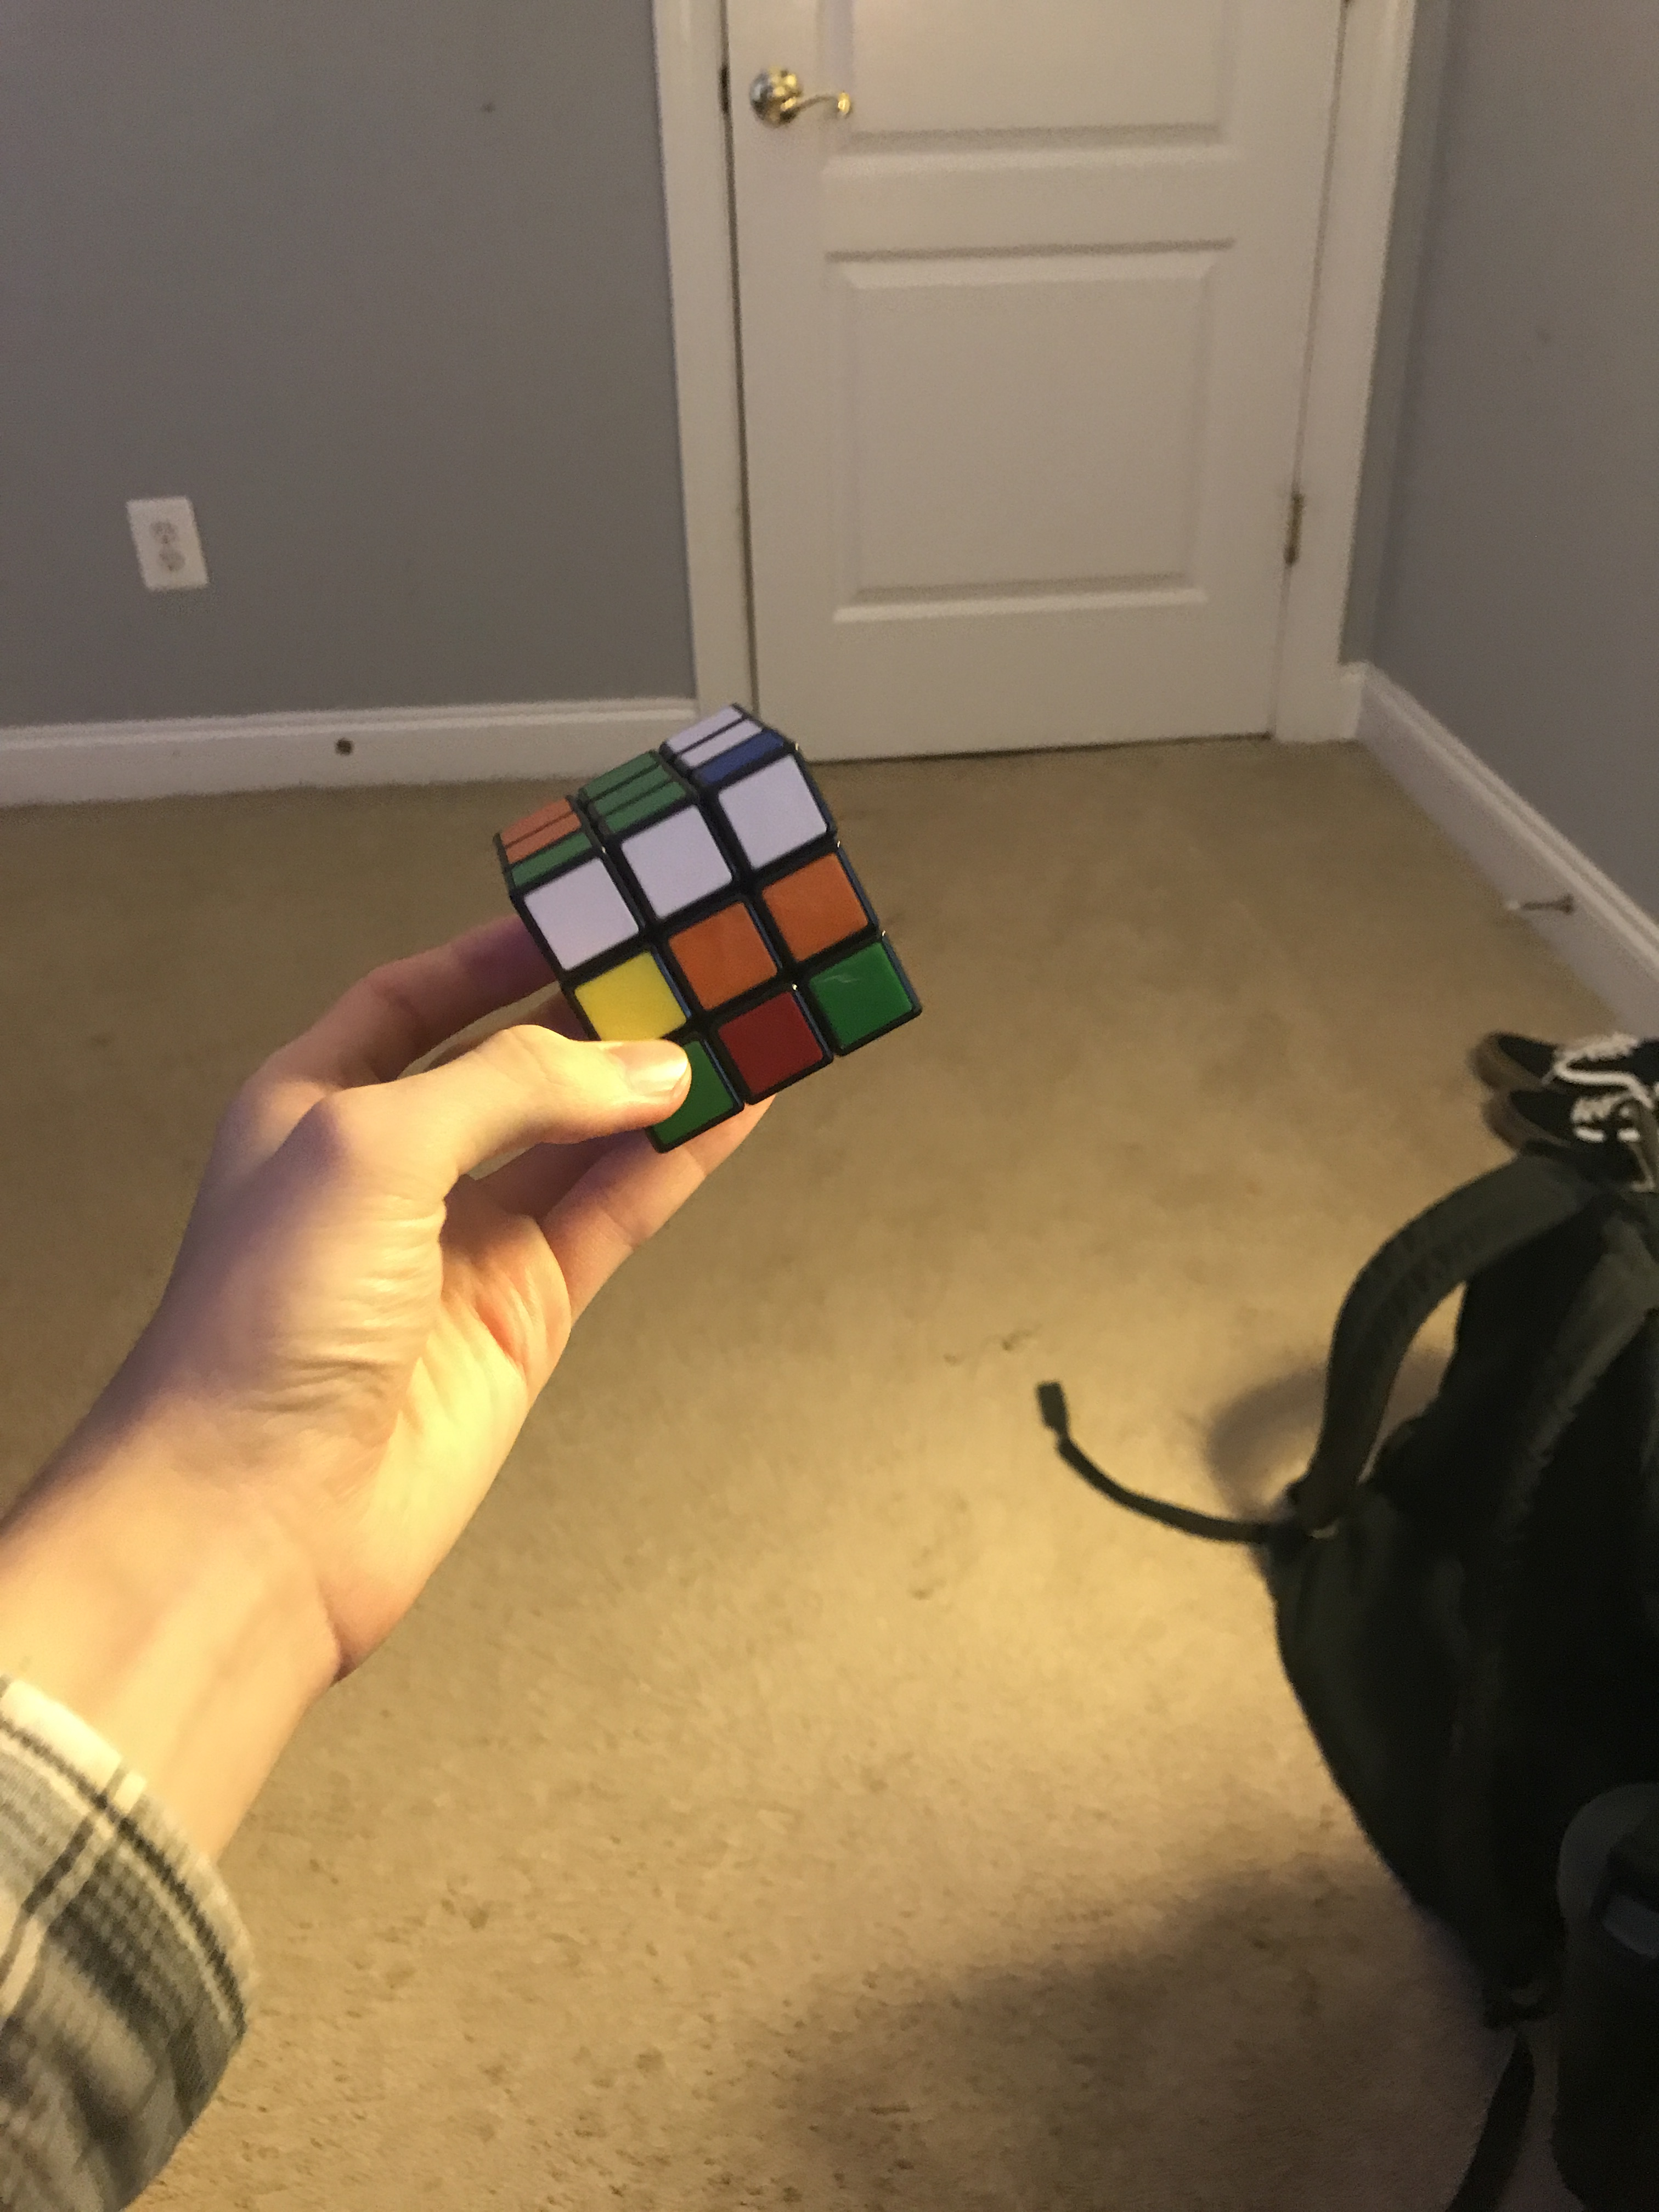rubiks: (490, 707, 918, 1158)
